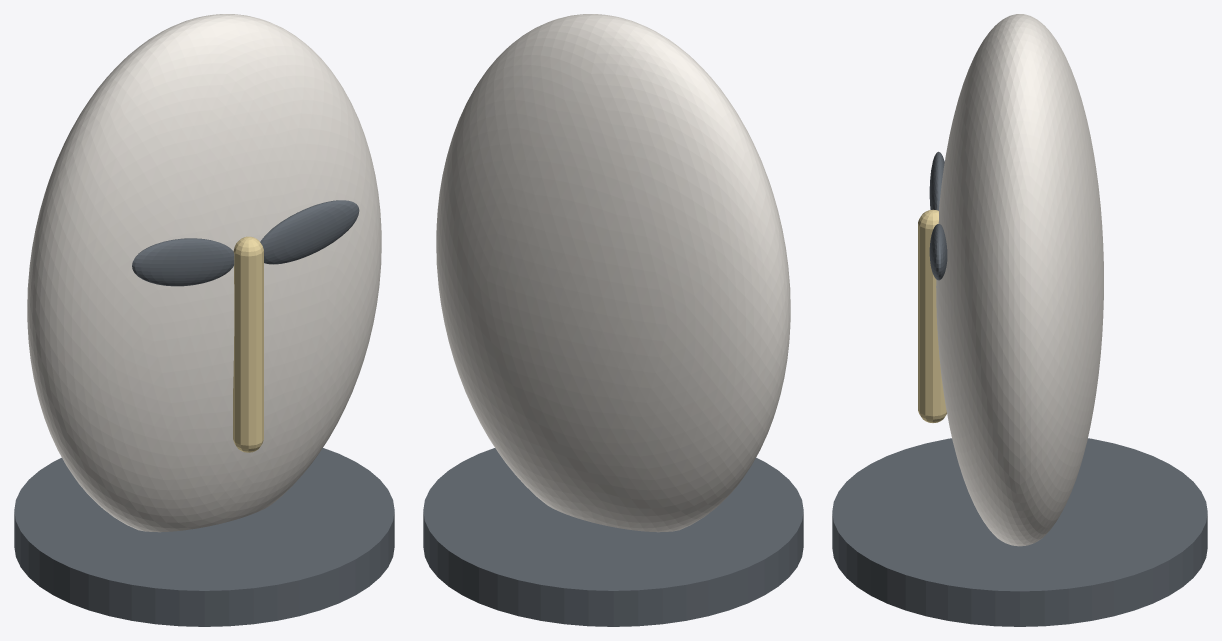
File: abstract-mask.glb
The picture shows the model from 3 angles, left to right: view 1: azimuth 30°, elevation 25°; view 2: azimuth 150°, elevation 25°; view 3: azimuth 270°, elevation 25°; orthographic projection.
Visible parts, largest first — view 1: abstract-mask-0, abstract-mask-4, abstract-mask-3, abstract-mask-1, abstract-mask-2; view 2: abstract-mask-0, abstract-mask-4; view 3: abstract-mask-0, abstract-mask-4, abstract-mask-3, abstract-mask-2, abstract-mask-1.
Part boxes in pixels (<box>): abstract-mask-0: <box>27,14,381,532</box>; abstract-mask-4: <box>14,448,394,626</box>; abstract-mask-3: <box>233,236,263,452</box>; abstract-mask-1: <box>132,238,234,286</box>; abstract-mask-2: <box>260,200,359,264</box>; abstract-mask-0: <box>436,14,790,532</box>; abstract-mask-4: <box>423,448,803,626</box>; abstract-mask-0: <box>936,14,1103,546</box>; abstract-mask-4: <box>832,438,1207,626</box>; abstract-mask-3: <box>918,209,946,422</box>; abstract-mask-2: <box>929,224,947,280</box>; abstract-mask-1: <box>929,151,944,210</box>.
Bounding box in the file's own units: 1.4 × 2.05 × 1.34.
